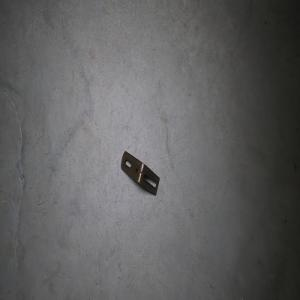MetalPart: (120, 149, 160, 196)
